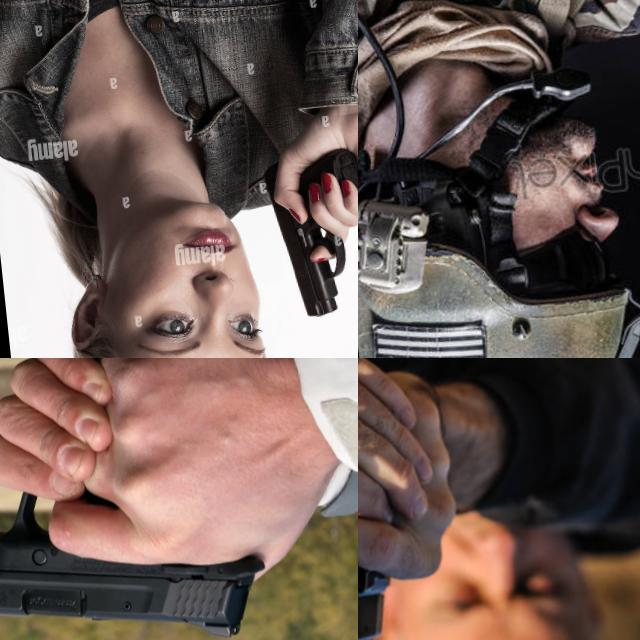handgun: (0, 429, 276, 640), (358, 459, 475, 640), (253, 134, 358, 331)
